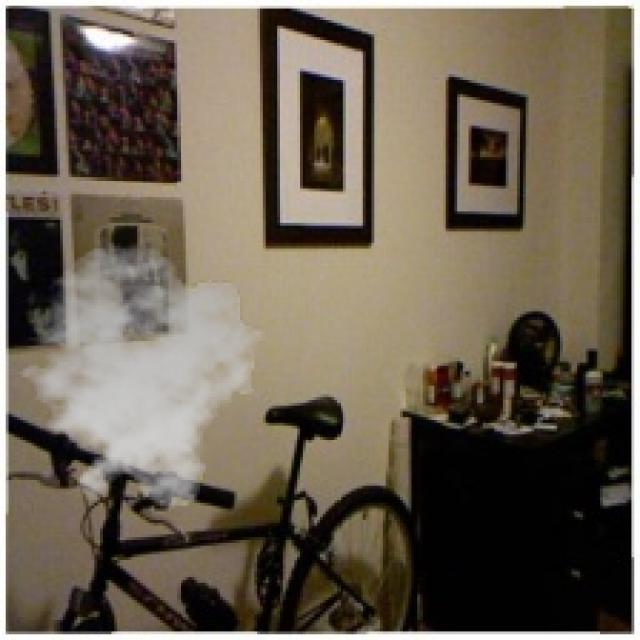Smoke: (5, 243, 272, 512)
